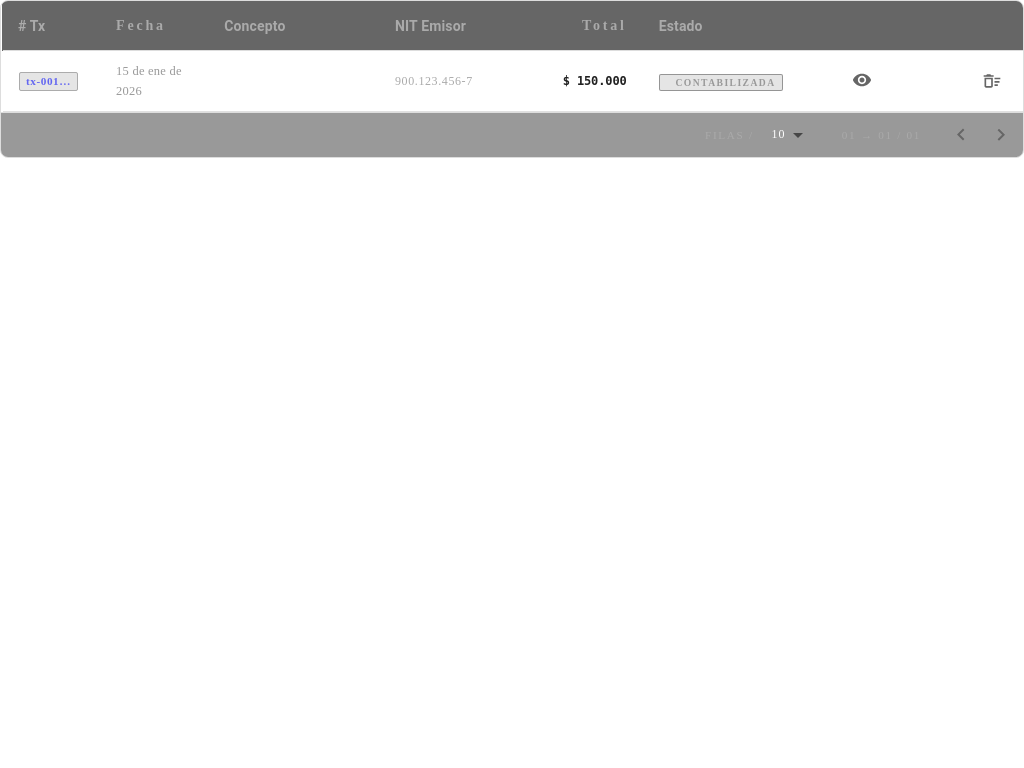
TransactionTable — delete by ingest button › clicking the delete-by-ingest button shows a confirmation dialog
Click delete-by-ingest button
Click the button named "Eliminar documento" at point(992, 81), box x1=977 y1=66 x2=1007 y2=96
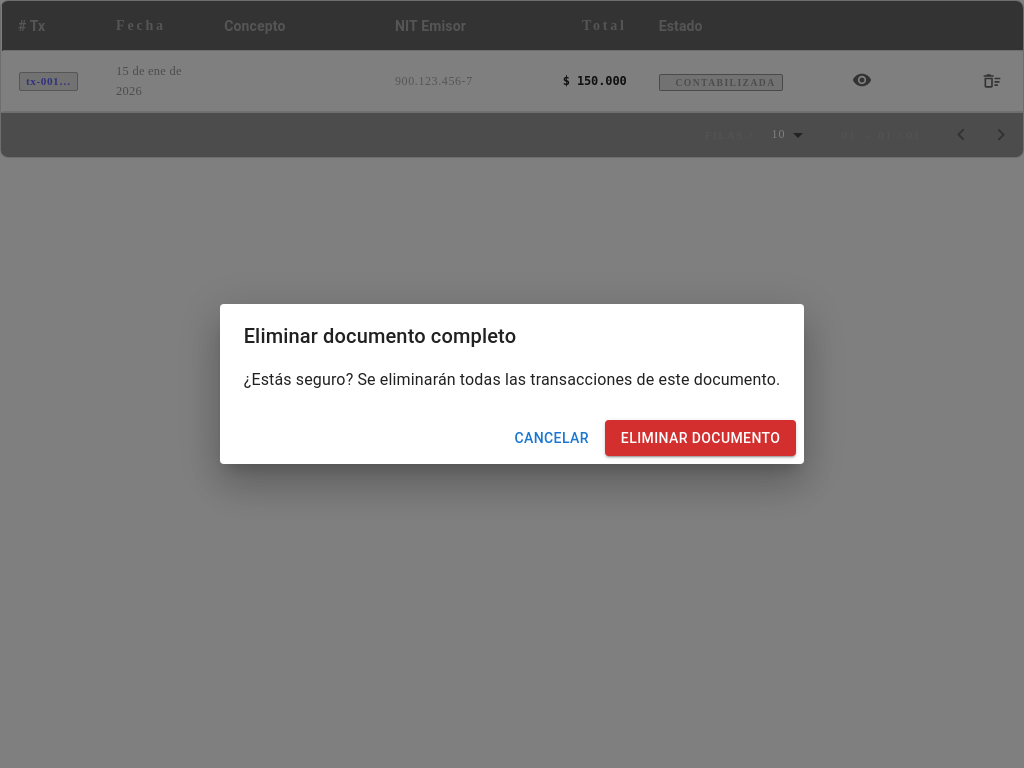
Expected: the dialog is shown, x1=220 y1=304 x2=804 y2=464
